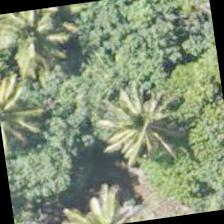Kelapa_Sawit: (92, 69, 194, 170), (0, 72, 67, 170), (0, 75, 66, 173), (0, 3, 86, 70), (7, 158, 83, 223)
